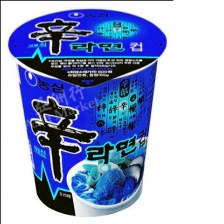paper_cup: (5, 4, 170, 221)
